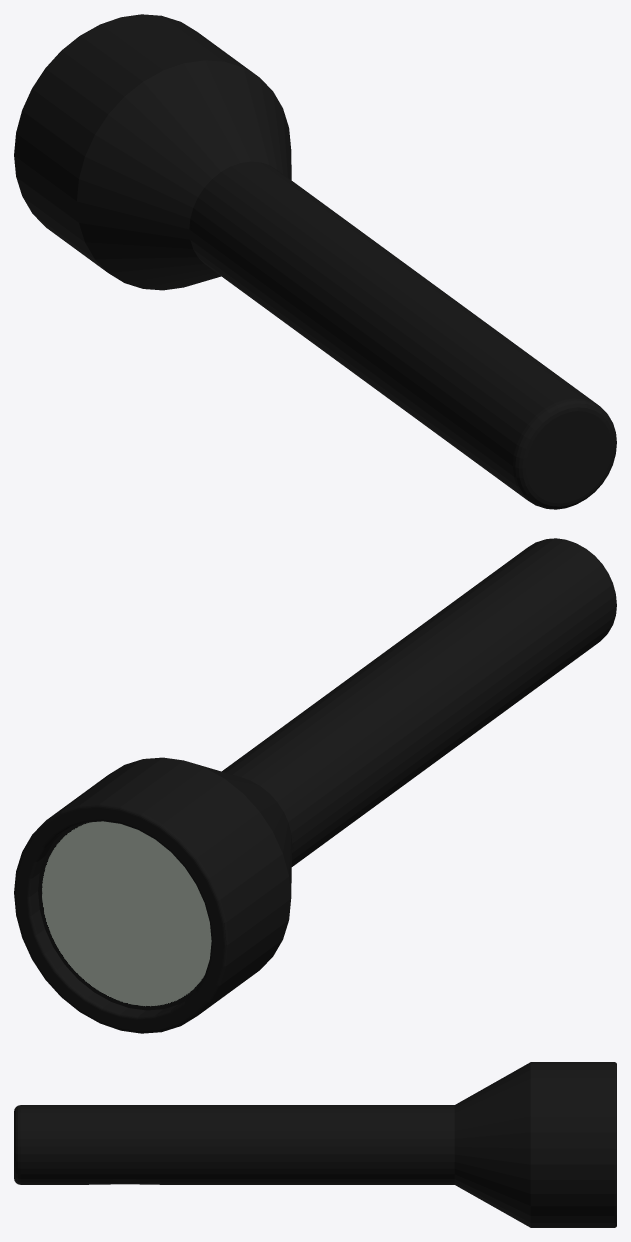
Rendered from flashlight.glb.
The picture shows the model from 3 angles, top to bottom: view 1: azimuth 30°, elevation 25°; view 2: azimuth 150°, elevation 25°; view 3: azimuth 270°, elevation 25°; orthographic projection. The views are drawn at different scales.
Parts seen in each view (by area): view 1: flashlight; view 2: flashlight; view 3: flashlight.
Boxes of the visible parts, x1,y1,x2,y2 form: flashlight: (14,14,616,509); flashlight: (14,538,616,1033); flashlight: (14,1062,616,1227).
Bounding box in the file's own units: 0.14 × 0.14 × 0.5084.
1 material, 1 textured.
